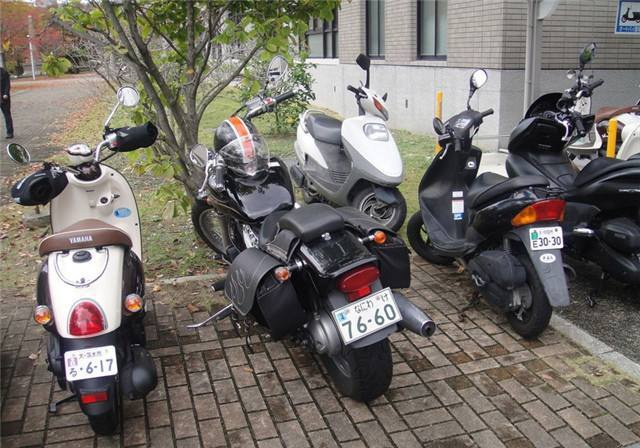non-vehicle: (197, 118, 395, 409), (13, 122, 150, 438), (410, 111, 561, 337), (524, 67, 640, 294), (298, 77, 398, 231)
